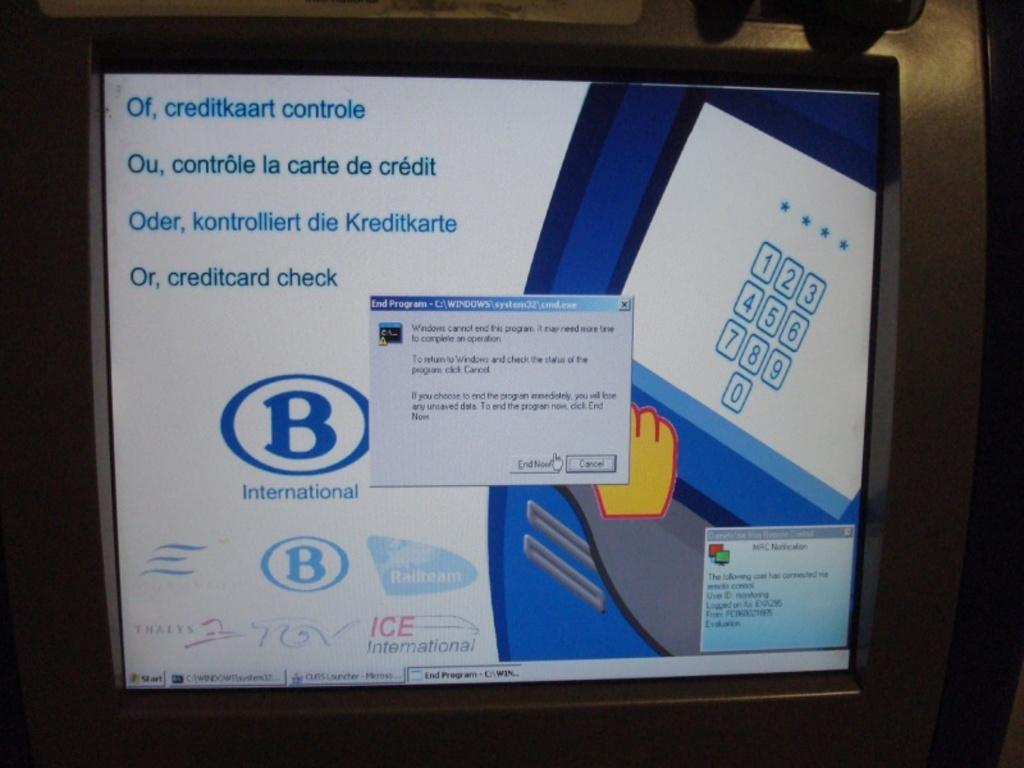Computer-monitor: (13, 13, 933, 764)
